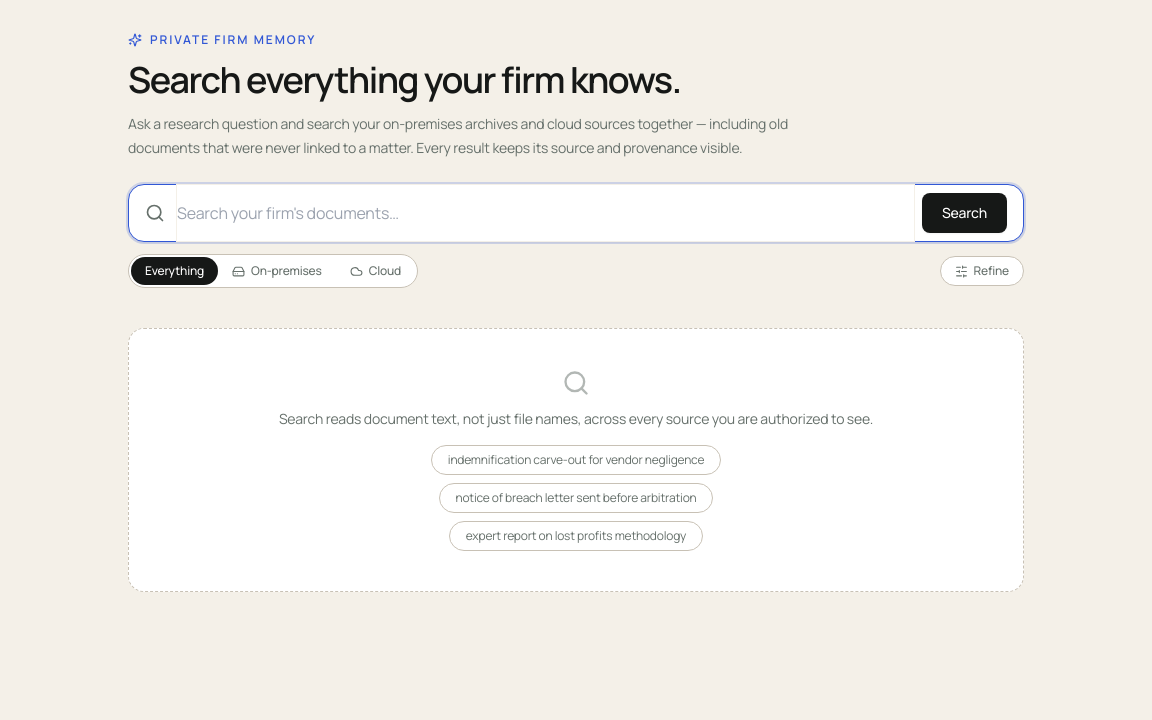
UnifiedFirmMemoryPage › does not claim no matches when coverage is incomplete
The width and height of the screenshot is (1152, 720).
In the field named "Research query": (545, 213) [177,185,914,241], type "indemnity"
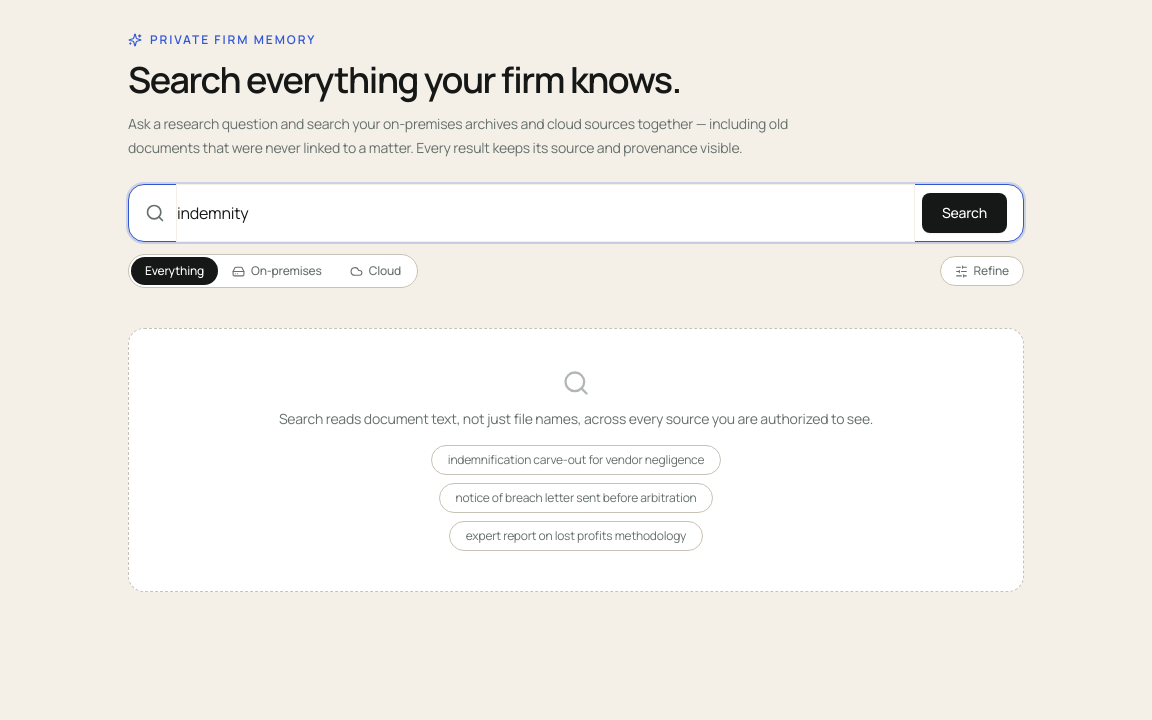
Click the button "Search": (964, 213) [922,193,1007,233]
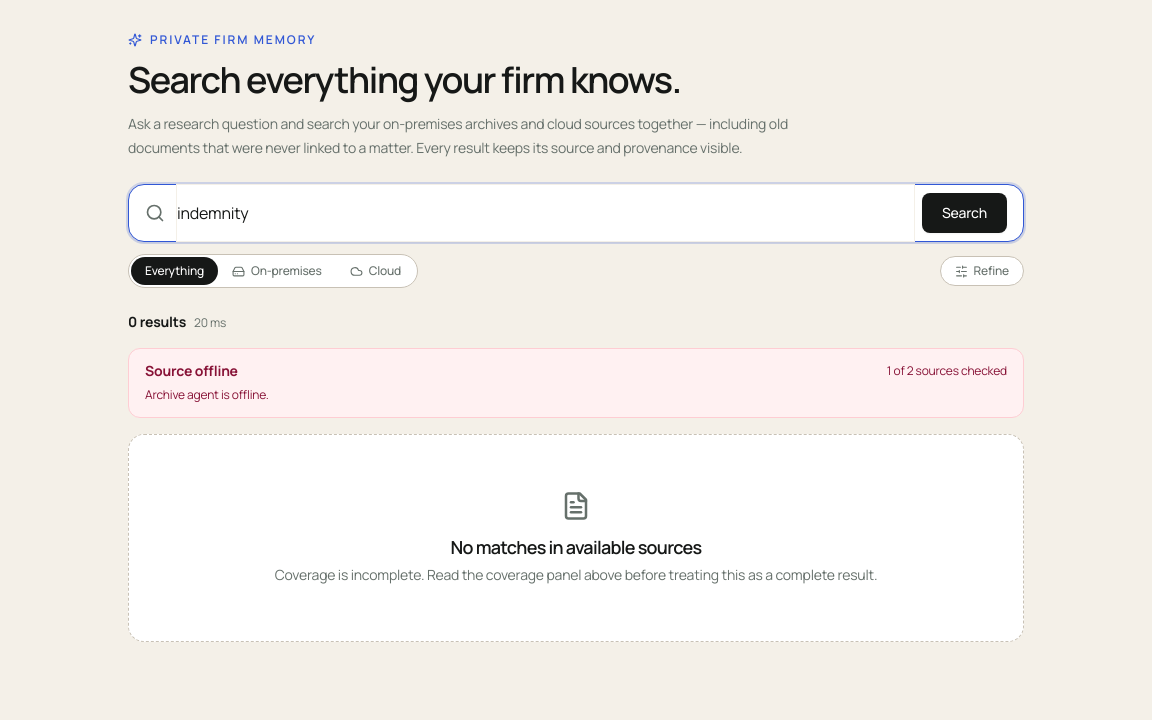
Result: the heading "No matches in available sources" is shown at [450,535,701,559]
Result: the text "Archive agent is offline." is shown at [145,386,269,403]
